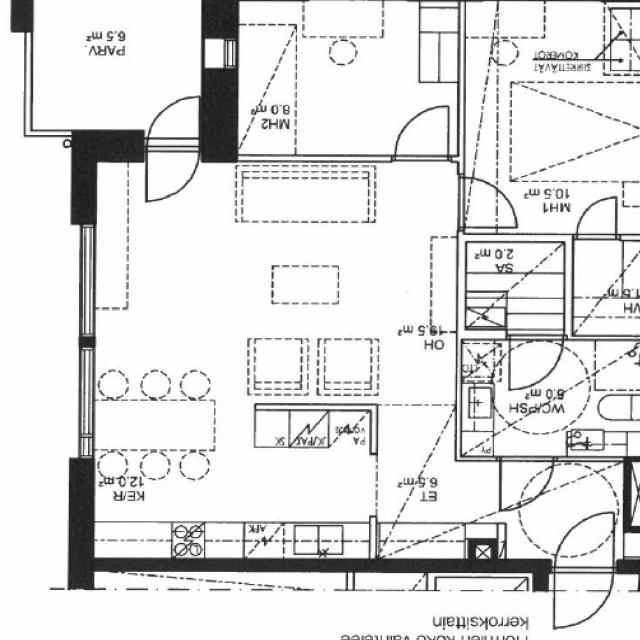door: (146, 75, 202, 162), (146, 129, 202, 215), (555, 558, 613, 628), (555, 503, 613, 573), (394, 106, 448, 162), (510, 330, 562, 388), (500, 456, 552, 511), (459, 178, 517, 227), (577, 198, 616, 240)
